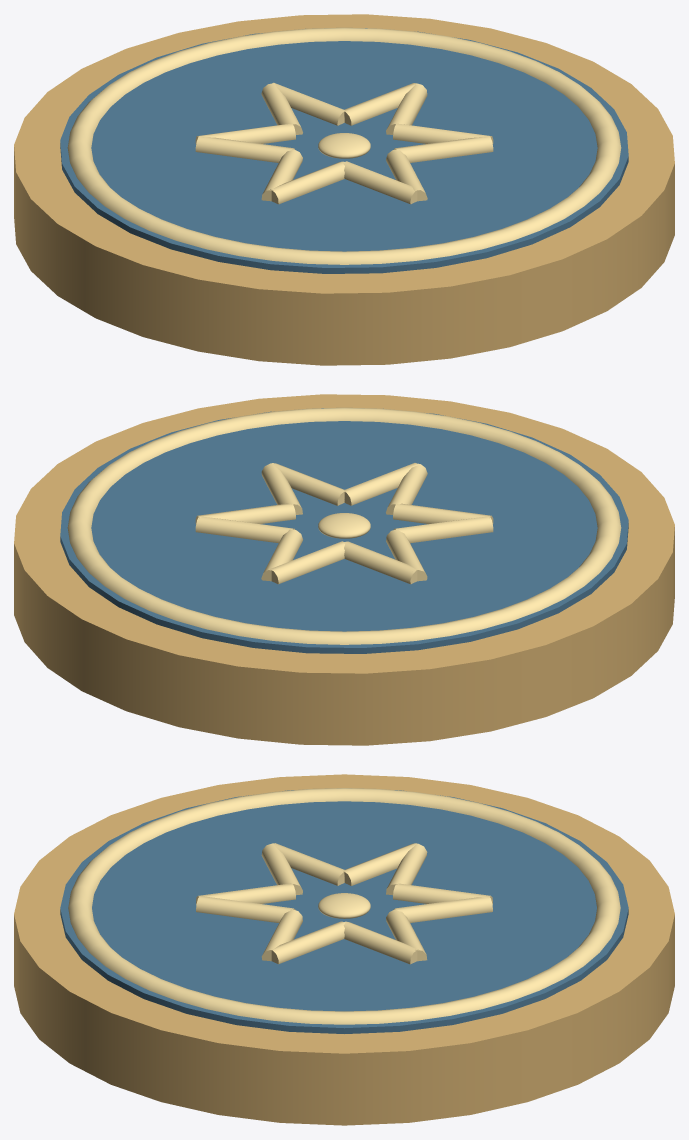
File: chip_mine.glb
3 views of the same model, one above another, from view 1: azimuth 30°, elevation 25°; view 2: azimuth 150°, elevation 25°; view 3: azimuth 270°, elevation 25° (orthographic).
Parts seen in each view (by area): view 1: CoinEdge, CoinFace, GiltFaceRing, _MeshInstance3D_105, _MeshInstance3D_110, _MeshInstance3D_108, _MeshInstance3D_107, _MeshInstance3D_102, SunStar, _MeshInstance3D_111, _MeshInstance3D_104, SunCore (+4 smaller); view 2: CoinEdge, CoinFace, GiltFaceRing, _MeshInstance3D_102, _MeshInstance3D_109, _MeshInstance3D_111, _MeshInstance3D_112, _MeshInstance3D_103, _MeshInstance3D_108, _MeshInstance3D_105, _MeshInstance3D_106, SunCore (+4 smaller); view 3: CoinEdge, CoinFace, GiltFaceRing, _MeshInstance3D_106, SunStar, _MeshInstance3D_103, _MeshInstance3D_104, _MeshInstance3D_109, _MeshInstance3D_110, _MeshInstance3D_112, _MeshInstance3D_107, SunCore (+4 smaller).
Boxes of the visible parts, box(x1,y1,x2,y2) form: CoinEdge: box(14, 14, 674, 365); CoinFace: box(60, 28, 628, 273); GiltFaceRing: box(67, 27, 621, 264); _MeshInstance3D_105: box(394, 137, 493, 162); _MeshInstance3D_110: box(195, 137, 294, 162); _MeshInstance3D_108: box(270, 161, 344, 204); _MeshInstance3D_107: box(343, 161, 417, 204); _MeshInstance3D_102: box(344, 83, 418, 125); SunStar: box(272, 82, 345, 125); _MeshInstance3D_111: box(195, 123, 295, 144); _MeshInstance3D_104: box(393, 123, 493, 144); SunCore: box(318, 133, 370, 158); CoinEdge: box(14, 394, 674, 745); CoinFace: box(60, 408, 628, 653); GiltFaceRing: box(67, 407, 621, 644); _MeshInstance3D_102: box(195, 516, 295, 543); _MeshInstance3D_109: box(393, 516, 493, 543); _MeshInstance3D_111: box(343, 541, 417, 584); _MeshInstance3D_112: box(270, 541, 344, 584); _MeshInstance3D_103: box(195, 503, 295, 524); _MeshInstance3D_108: box(393, 503, 493, 524); _MeshInstance3D_105: box(272, 463, 345, 505); _MeshInstance3D_106: box(344, 463, 418, 505); SunCore: box(318, 513, 370, 538); CoinEdge: box(14, 774, 674, 1125); CoinFace: box(60, 790, 628, 1033); GiltFaceRing: box(68, 788, 620, 1024); _MeshInstance3D_106: box(196, 896, 295, 922); SunStar: box(393, 897, 492, 922); _MeshInstance3D_103: box(343, 921, 418, 964); _MeshInstance3D_104: box(271, 921, 345, 964); _MeshInstance3D_109: box(270, 843, 344, 885); _MeshInstance3D_110: box(343, 843, 416, 885); _MeshInstance3D_112: box(393, 883, 492, 903); _MeshInstance3D_107: box(196, 883, 295, 903); SunCore: box(318, 893, 370, 918).
Size of the model in its own units: 0.1 by 0.0149 by 0.1.
